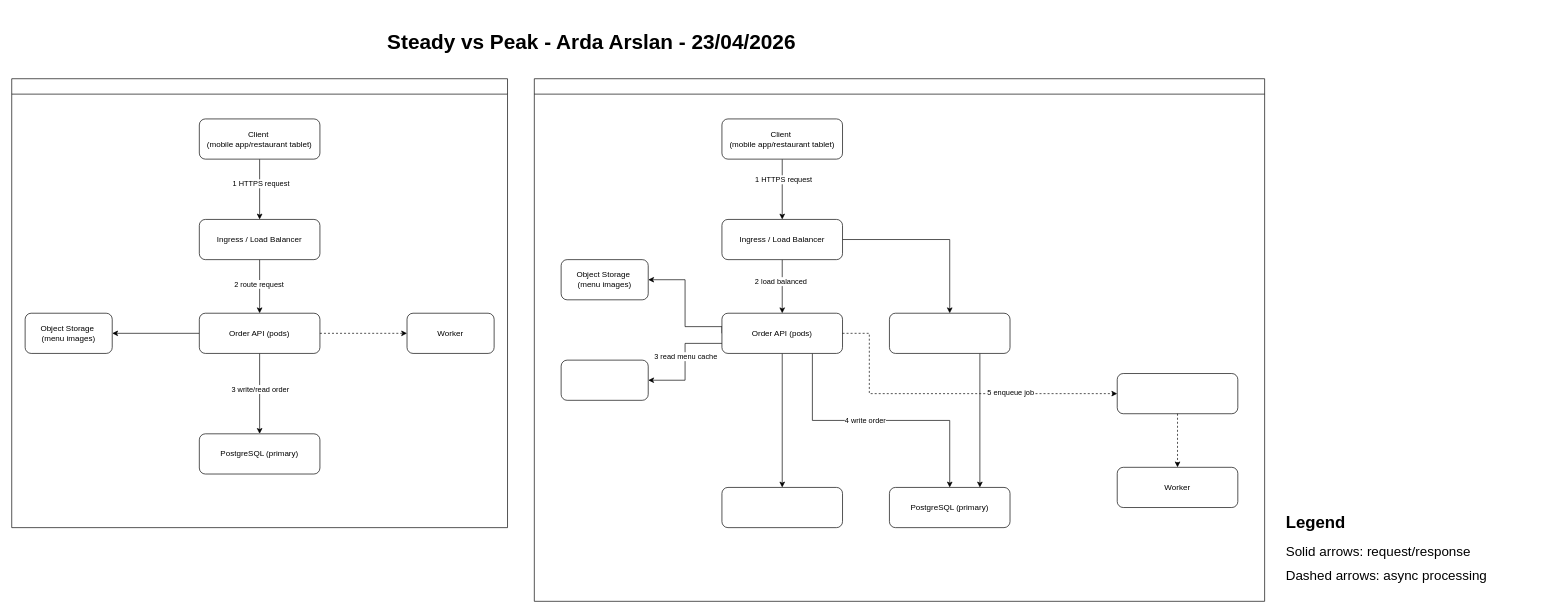
Image size: 1544x614. Some labels were removed from this diagram. Here are the shapes that lost their labels. From the top down, the box of each, then its label:
(11, 78, 508, 528): Steady
(534, 78, 1265, 601): Peak
(889, 313, 1010, 353): Order API (more pods - HPA)
(560, 359, 648, 400): Cache (menu data)
(1117, 373, 1238, 414): Queue
(721, 487, 843, 528): PostgreSQL (read replica)
